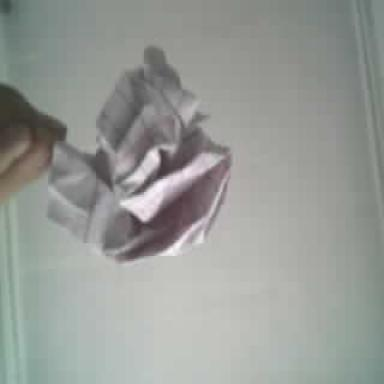paper: (47, 48, 230, 259)
